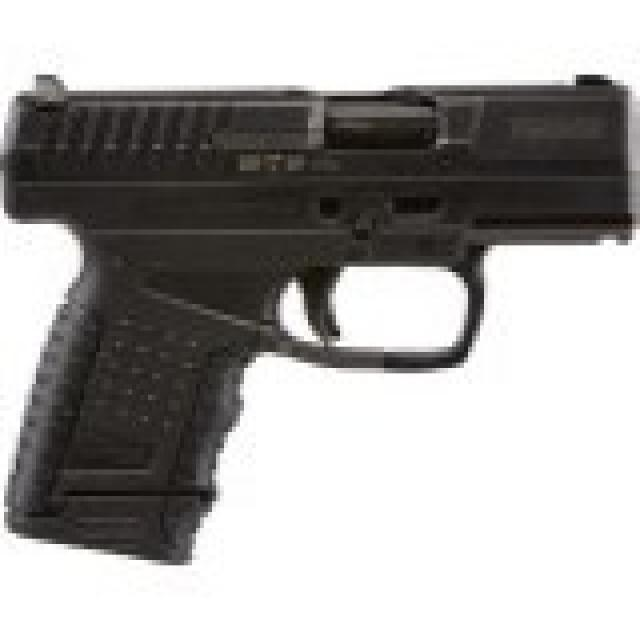Gun: (8, 41, 634, 566)
